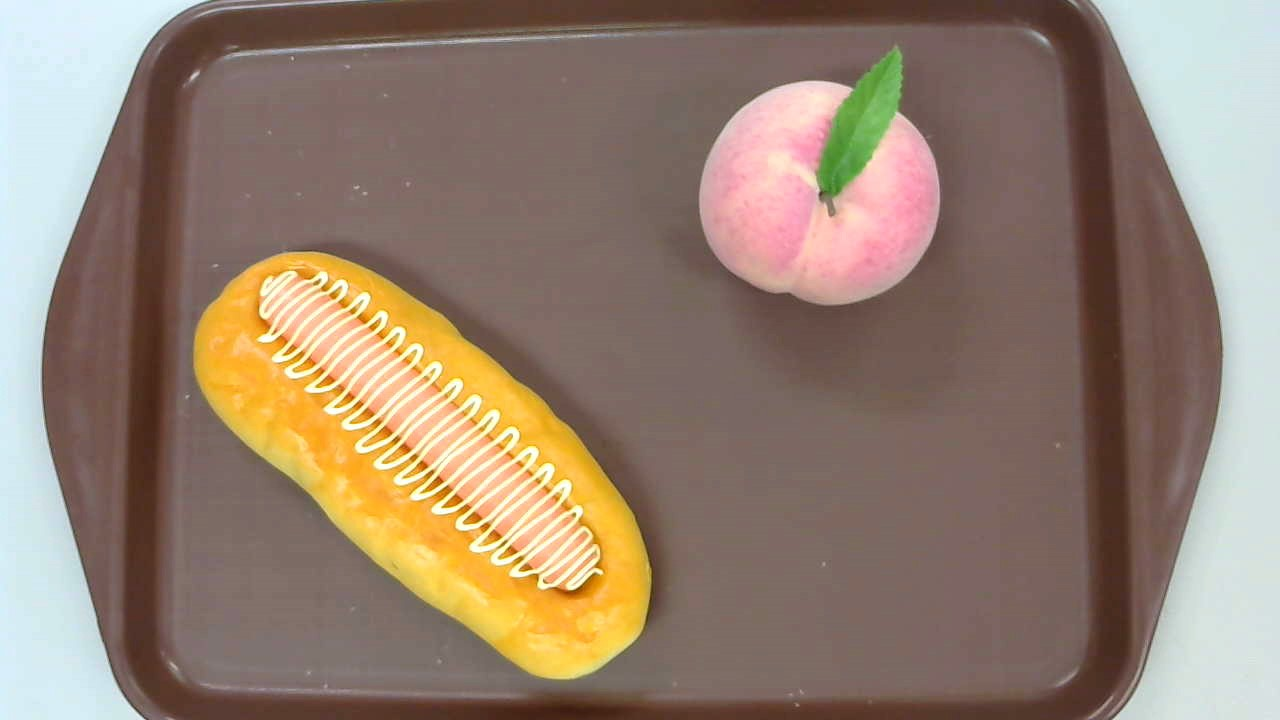hot dog: (194, 250, 653, 679)
peach: (697, 44, 941, 305)
